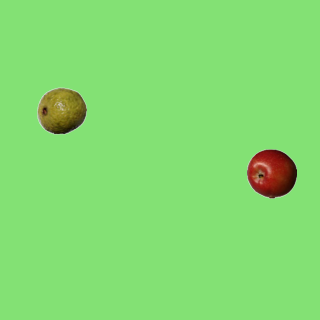Apple Braeburn: (246, 148, 296, 198)
Guava: (36, 85, 86, 135)
